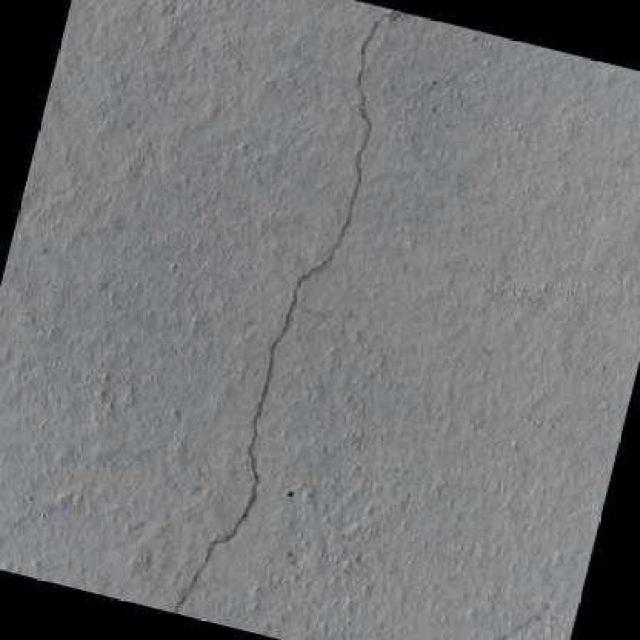D00: (171, 10, 413, 613)
